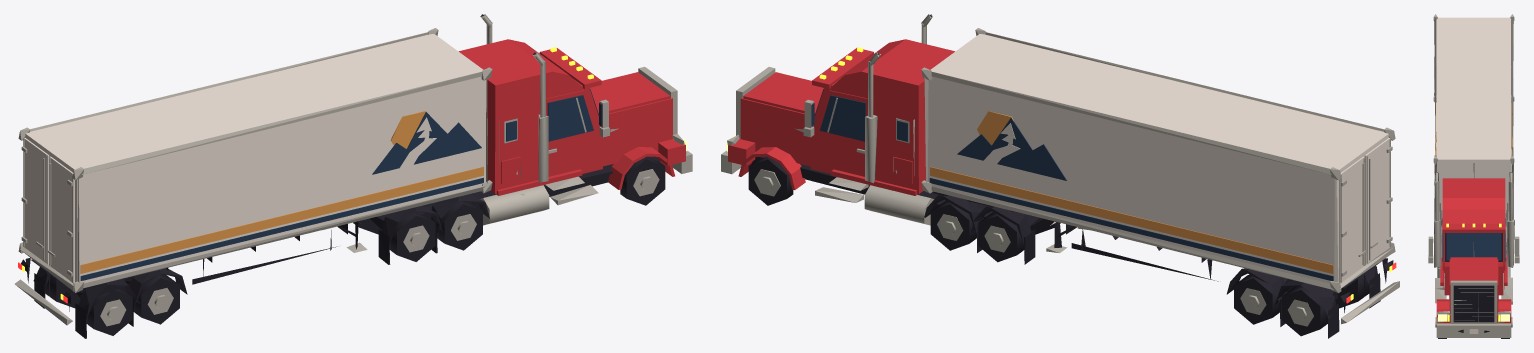
The model's file is veh.semi-trailer.lod2.glb.
3 renders of one model, left to right at view 1: azimuth 30°, elevation 25°; view 2: azimuth 150°, elevation 25°; view 3: azimuth 270°, elevation 25°, orthographic. The views are drawn at different scales.
Parts seen in each view (by area): view 1: body, doorL, cargoDoorR, cargoDoorL, wheelDrive2L, wheelTrailer1L, wheelRL, wheelTrailer2L, wheelFL, wheelTrailer2R; view 2: body, doorR, cargoDoorL, cargoDoorR, wheelTrailer2R, wheelTrailer1R, wheelDrive2R, wheelRR, wheelFR, wheelTrailer2L; view 3: body, doorL, doorR, lightsFront, clearanceLamps.
Boxes of the visible parts, box(x1,y1,x2,y2) form: body: box(15, 14, 692, 338); doorL: box(546, 90, 609, 176); cargoDoorR: box(21, 138, 49, 264); cargoDoorL: box(48, 156, 74, 283); wheelDrive2L: box(389, 211, 435, 261); wheelTrailer1L: box(128, 273, 179, 324); wheelRL: box(437, 201, 482, 250); wheelTrailer2L: box(80, 288, 132, 335); wheelFL: box(620, 157, 665, 205); wheelTrailer2R: box(45, 275, 80, 308); body: box(721, 14, 1399, 338); doorR: box(803, 90, 867, 176); cargoDoorL: box(1364, 138, 1392, 264); cargoDoorR: box(1339, 156, 1366, 283); wheelTrailer2R: box(1281, 285, 1327, 336); wheelTrailer1R: box(1234, 274, 1284, 324); wheelDrive2R: box(978, 212, 1030, 262); wheelRR: box(930, 200, 981, 250); wheelFR: box(748, 157, 793, 205); wheelTrailer2L: box(1335, 274, 1369, 308); body: box(1433, 14, 1514, 337); doorL: box(1428, 218, 1443, 289); doorR: box(1504, 218, 1519, 289); lightsFront: box(1438, 314, 1509, 321); clearanceLamps: box(1446, 223, 1501, 321).
Bounding box in the file's own units: 17.16 × 4.73 × 3.05.
